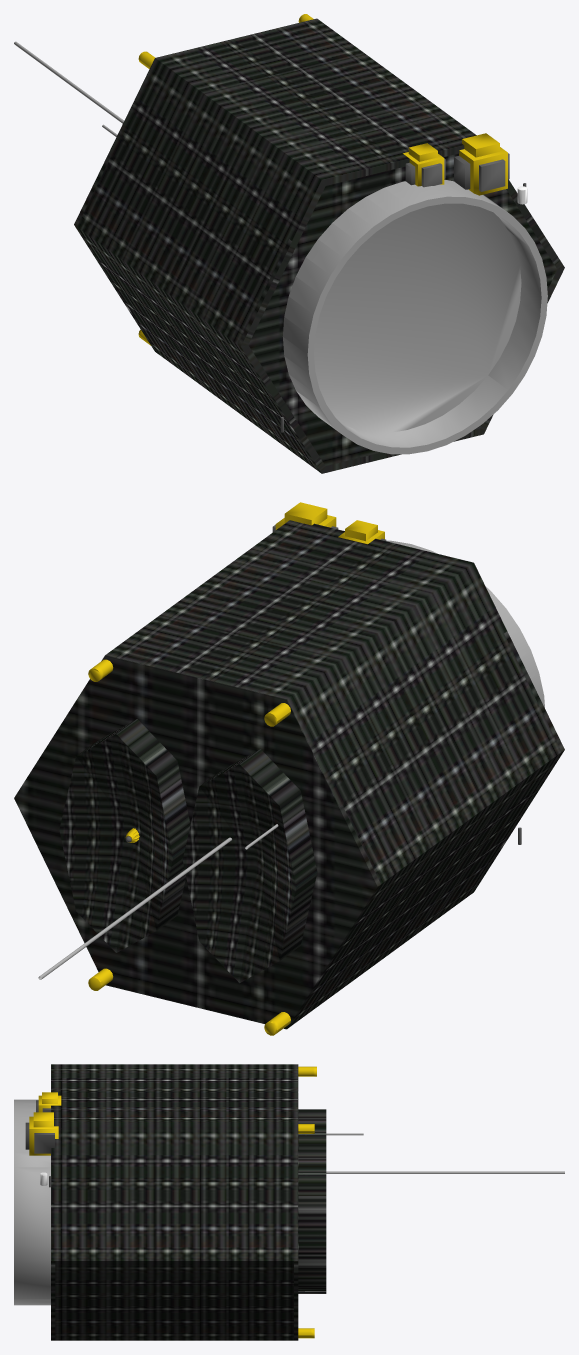
File: sparky.obj
The picture shows the model from 3 angles, top to bottom: view 1: azimuth 30°, elevation 25°; view 2: azimuth 150°, elevation 25°; view 3: azimuth 270°, elevation 25°; orthographic projection. The views are drawn at different scales.
Visible parts, largest first — view 1: group15, group12, group7, group10, group0, group19, group27, group9, group21, group20, group8; view 2: group12, group27, group7, group28, group29, group10, group15, group5, group0, group20; view 3: group9, group11, group7, group15, group29, group28, group5, group27, group19, group22, group0.
Boxes of the visible parts, x1,y1,x2,y2 form: group15: [282, 179, 547, 454]; group12: [77, 58, 325, 346]; group7: [155, 18, 476, 185]; group10: [77, 227, 325, 473]; group0: [238, 153, 557, 473]; group19: [459, 147, 507, 195]; group27: [74, 18, 316, 353]; group9: [506, 179, 564, 269]; group21: [479, 159, 505, 191]; group20: [462, 133, 499, 157]; group8: [322, 428, 483, 473]; group12: [287, 563, 561, 883]; group27: [14, 655, 380, 1029]; group7: [105, 520, 473, 699]; group28: [182, 749, 317, 983]; group29: [59, 719, 190, 952]; group10: [290, 752, 561, 1026]; group15: [386, 540, 544, 707]; group5: [38, 837, 231, 979]; group0: [471, 631, 564, 894]; group20: [284, 502, 327, 525]; group9: [51, 1123, 297, 1260]; group11: [55, 1261, 293, 1340]; group7: [51, 1064, 297, 1122]; group15: [14, 1099, 50, 1305]; group29: [298, 1149, 326, 1293]; group28: [298, 1109, 326, 1148]; group5: [326, 1171, 564, 1173]; group27: [294, 1064, 298, 1340]; group19: [29, 1116, 58, 1155]; group22: [34, 1133, 54, 1153]; group0: [51, 1261, 55, 1340].
Size of the model in its own units: 0.4957 by 0.4391 by 0.9837.
5 materials, 1 textured.
